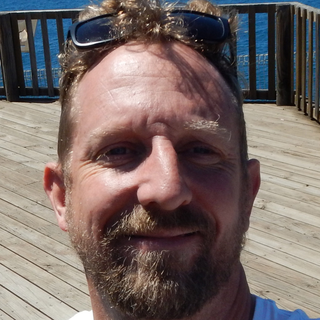eye: (93, 141, 142, 166)
